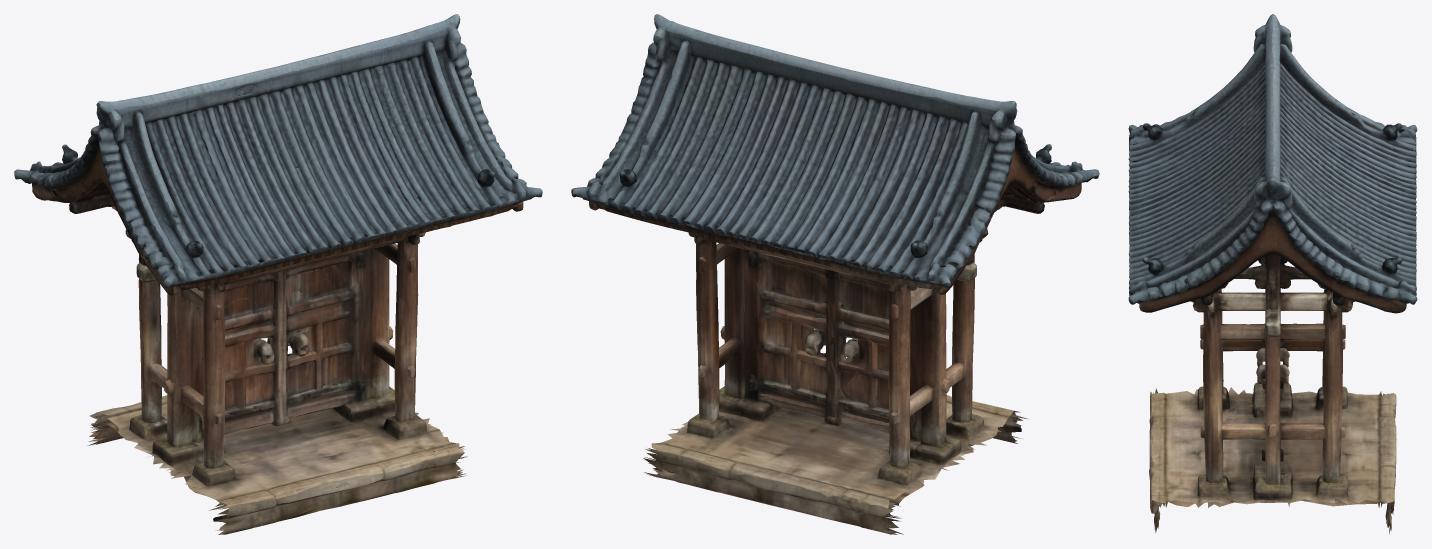
Rendered from ARCH-016-integrated.glb.
3 views of the same model, side by side, from view 1: azimuth 30°, elevation 25°; view 2: azimuth 150°, elevation 25°; view 3: azimuth 270°, elevation 25° (orthographic). The views are drawn at different scales.
Parts seen in each view (by area): view 1: gate-building-fixed, gate-door-right-visual, gate-door-left-visual; view 2: gate-building-fixed, gate-door-right-visual, gate-door-left-visual; view 3: gate-building-fixed, gate-door-left-visual, gate-door-right-visual.
Part boxes in pixels (bbox=[...]): gate-building-fixed: bbox=[14, 14, 542, 534]; gate-door-right-visual: bbox=[278, 250, 370, 424]; gate-door-left-visual: bbox=[192, 271, 285, 445]; gate-building-fixed: bbox=[571, 14, 1099, 534]; gate-door-right-visual: bbox=[730, 248, 834, 419]; gate-door-left-visual: bbox=[828, 270, 921, 446]; gate-building-fixed: bbox=[1128, 14, 1417, 533]; gate-door-left-visual: bbox=[1256, 264, 1290, 405]; gate-door-right-visual: bbox=[1256, 279, 1289, 461].
Bounding box in the file's own units: 5.42 × 5.5 × 3.8.
1 material, 1 textured.
